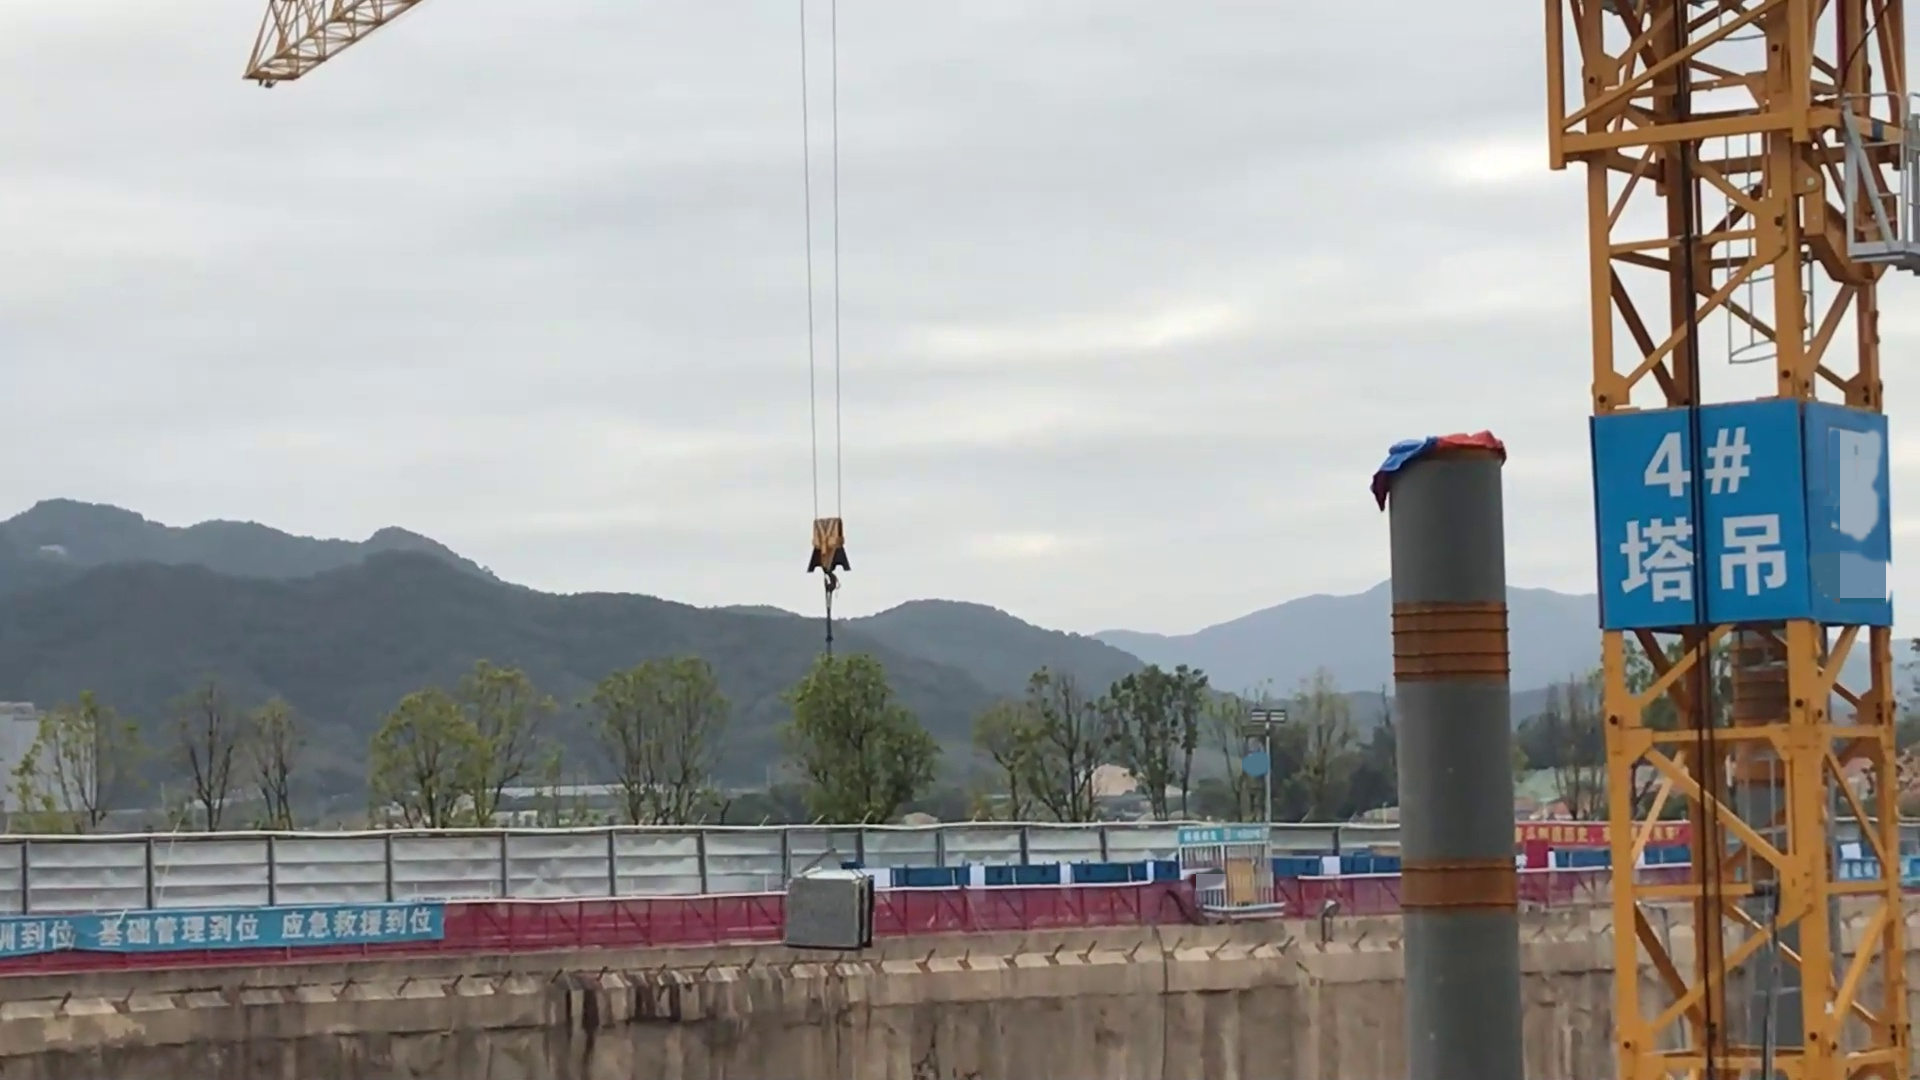fence: (5, 864, 1669, 975)
hook: (796, 524, 864, 597)
scaffold: (787, 866, 876, 949)
slogan: (8, 895, 447, 965), (1513, 816, 1701, 851), (1829, 853, 1919, 887)
